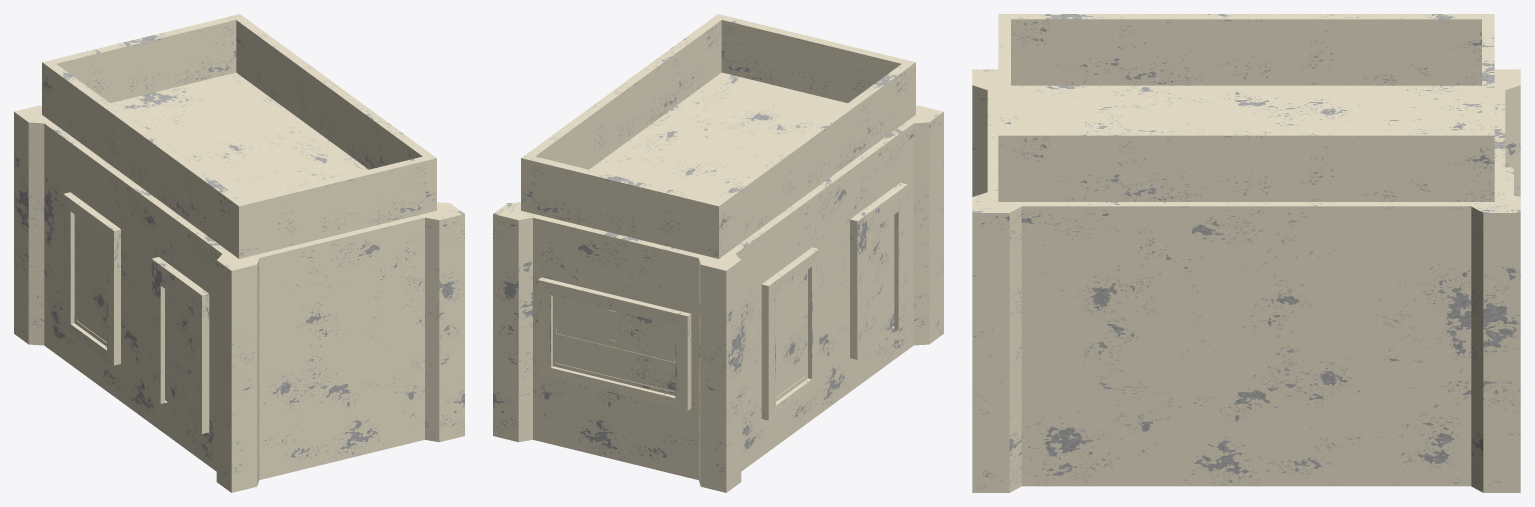
File: buildig.003_peeling_paint_(concrete)_(white)_0.001_lev3.glb
The picture shows the model from 3 angles, left to right: view 1: azimuth 30°, elevation 25°; view 2: azimuth 150°, elevation 25°; view 3: azimuth 270°, elevation 25°; orthographic projection. The views are drawn at different scales.
Parts seen in each view (by area): view 1: buildig.003_peeling_paint_(concrete)_(white)_0.001_lev3; view 2: buildig.003_peeling_paint_(concrete)_(white)_0.001_lev3; view 3: buildig.003_peeling_paint_(concrete)_(white)_0.001_lev3.
Part boxes in pixels (x1,y1,x2,y2): buildig.003_peeling_paint_(concrete)_(white)_0.001_lev3: [14, 14, 464, 492]; buildig.003_peeling_paint_(concrete)_(white)_0.001_lev3: [493, 14, 943, 492]; buildig.003_peeling_paint_(concrete)_(white)_0.001_lev3: [972, 14, 1520, 492].
Size of the model in its own units: 1.33 by 1.5 by 2.15.
Materials: 1 (1 with a texture image).
